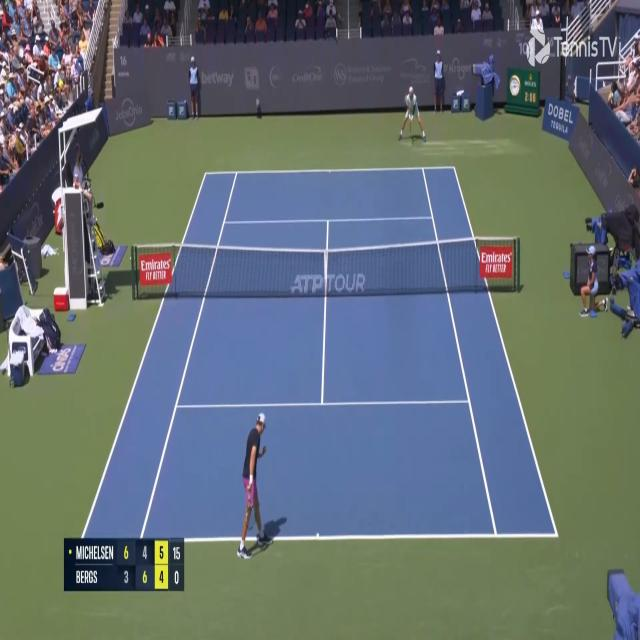tennis-player: (235, 409, 272, 563), (398, 82, 427, 144)
